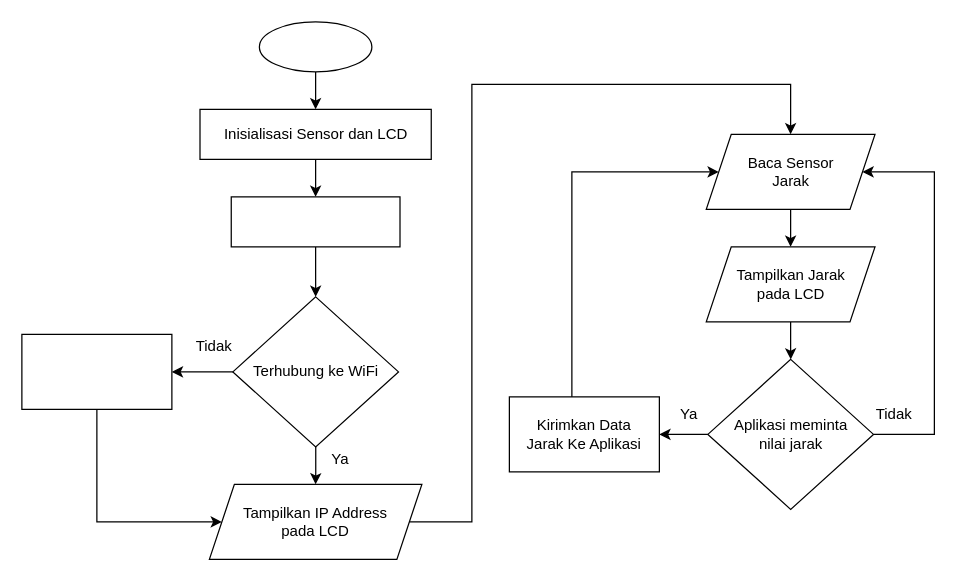
Image size: 966x581. Some labels were removed from this diagram. Each missing label, with the centre of its shape:
Buat WiFi Access Point: the point at 96,371
Hubungkan Ke WiFi: the point at 315,221
Mulai: the point at 315,46
